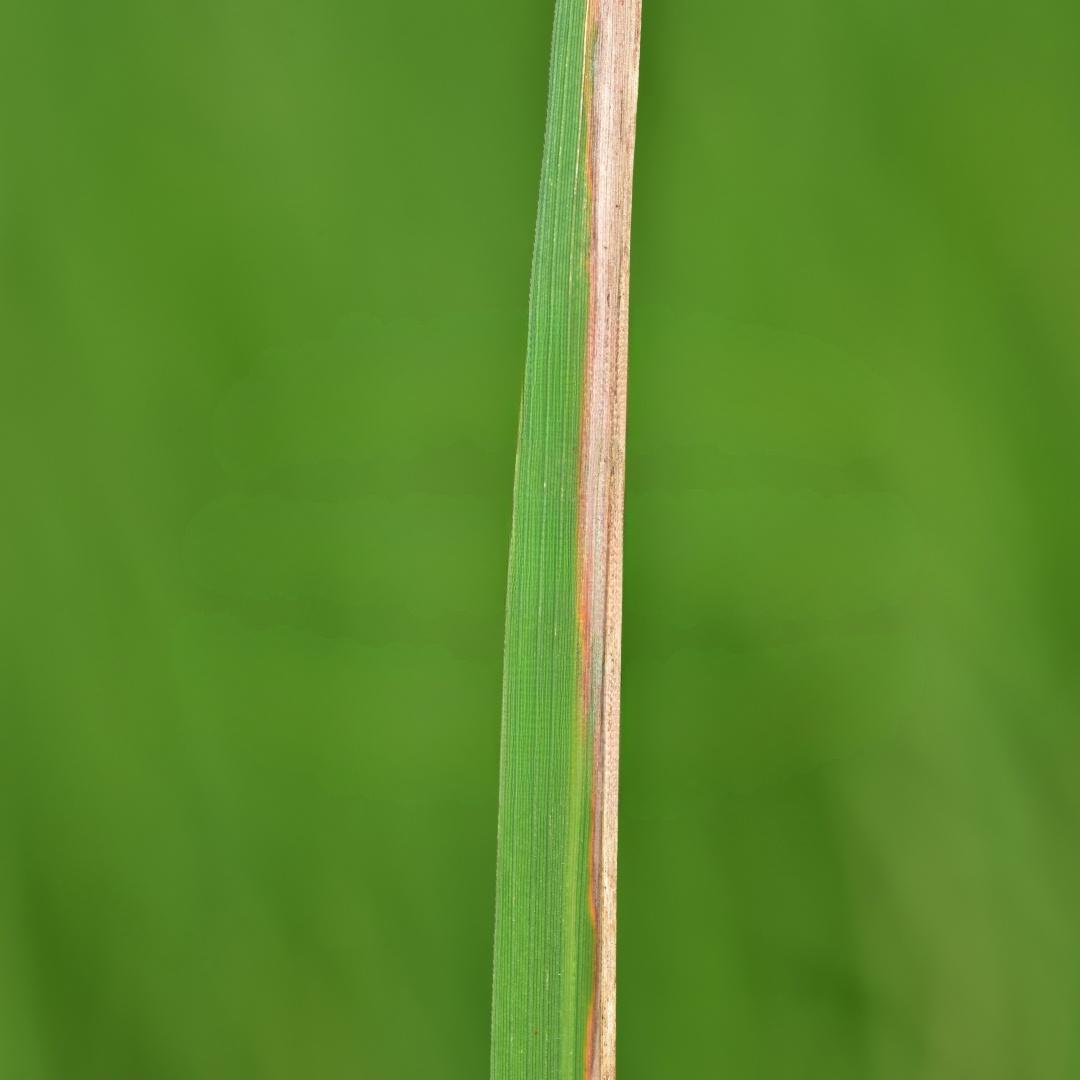BLB: (573, 0, 642, 1079)
LEAF: (490, 0, 642, 1079)
